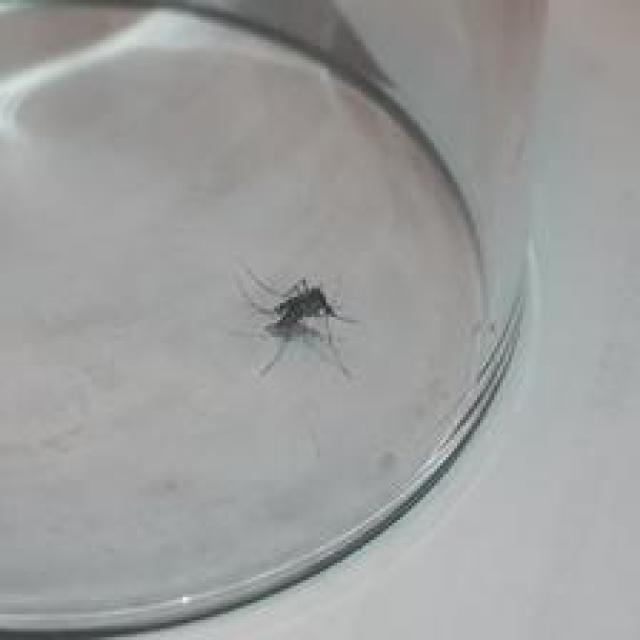Aedes albopictus: (230, 263, 359, 380)
